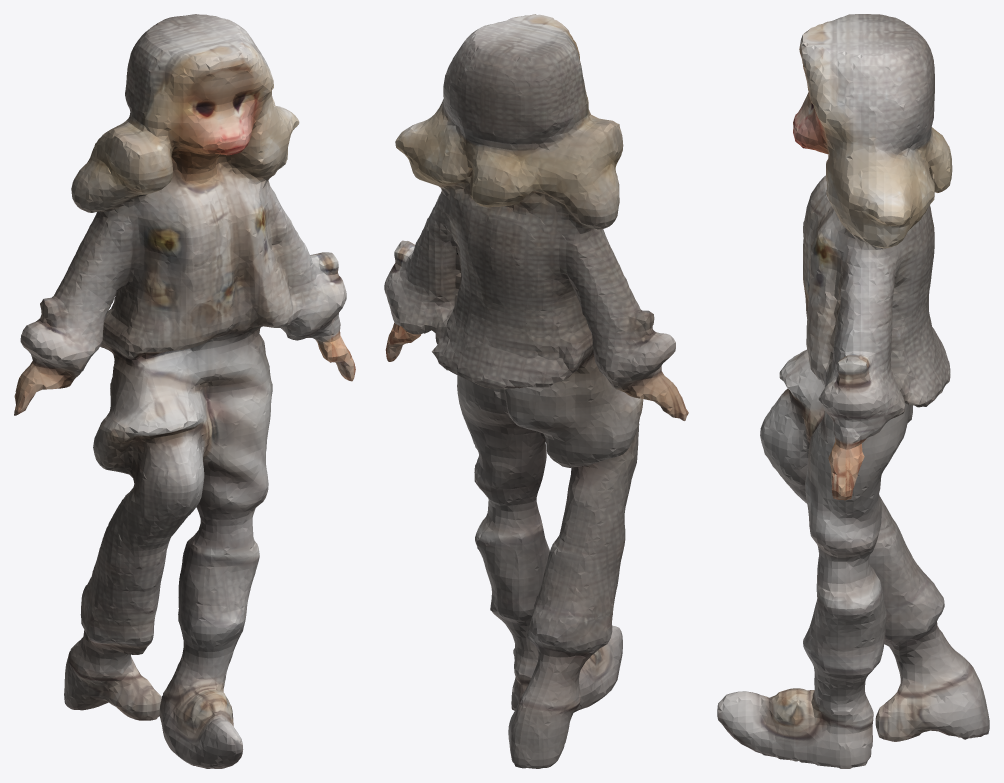
The model's file is skeleton.glb.
3 renders of one model, left to right at view 1: azimuth 30°, elevation 25°; view 2: azimuth 150°, elevation 25°; view 3: azimuth 270°, elevation 25°, orthographic. The views are drawn at different scales.
Visible parts, largest first — view 1: input.obj; view 2: input.obj; view 3: input.obj.
Part boxes in pixels (<box>): input.obj: <box>14,14,355,768</box>; input.obj: <box>384,14,688,768</box>; input.obj: <box>717,14,989,768</box>.
Size of the model in its own units: 0.4883 by 1 by 0.339.
Materials: 1 (1 with a texture image).
